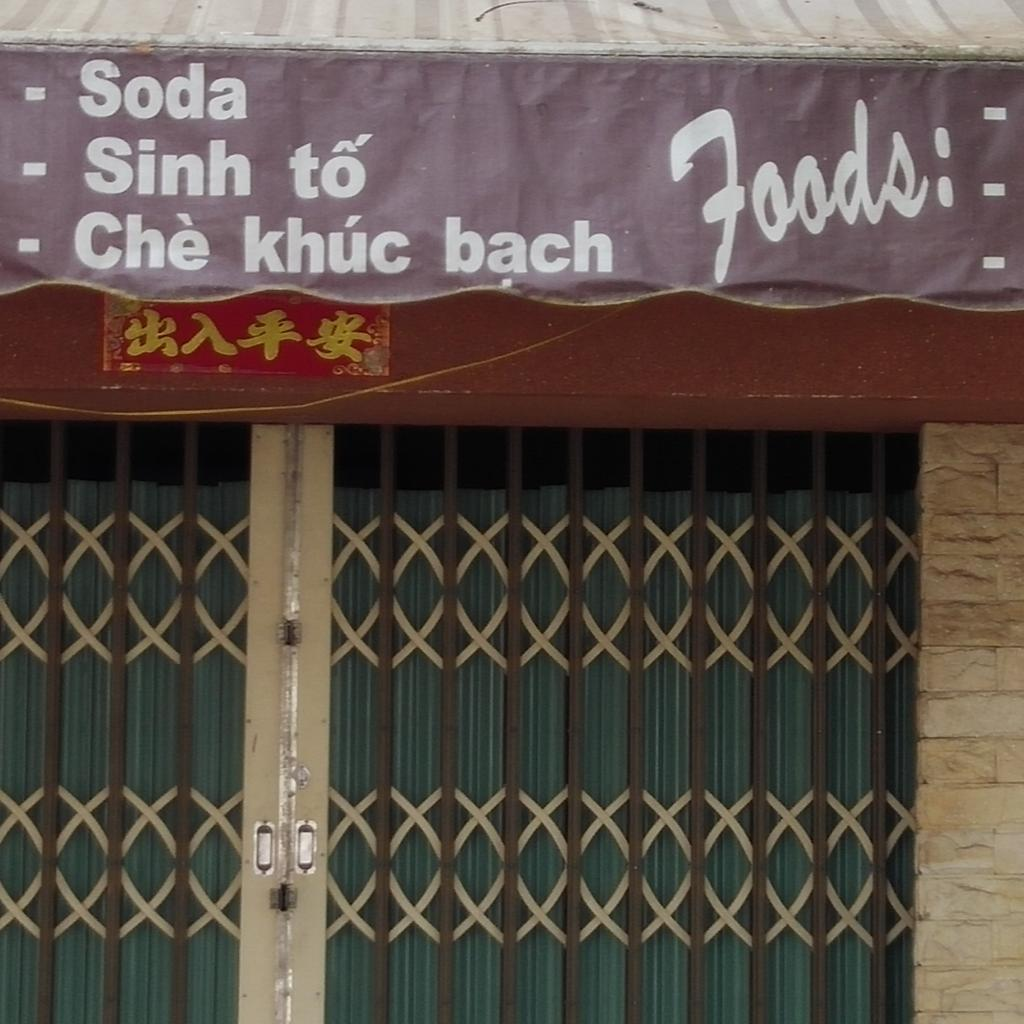text: (662, 97, 954, 296), (437, 215, 620, 292), (74, 58, 253, 123), (80, 136, 252, 201), (240, 216, 411, 276), (70, 209, 210, 271), (285, 131, 377, 201)
